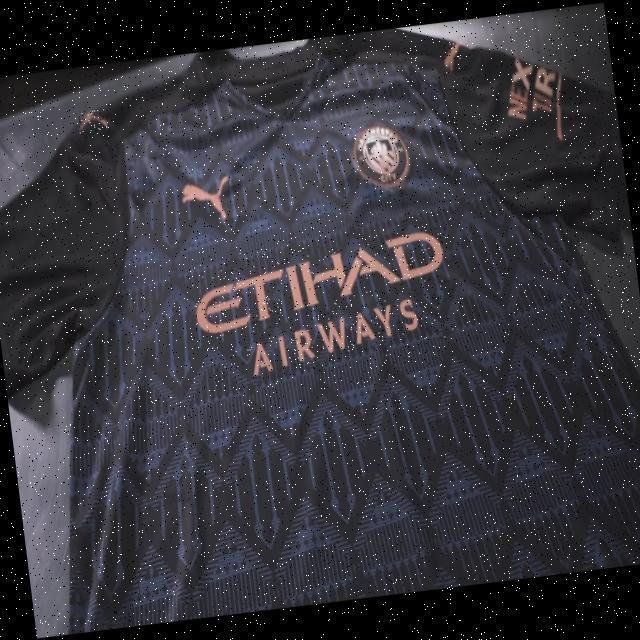Etihad Airways: (188, 228, 457, 384)
Puma: (178, 171, 234, 228), (438, 37, 465, 77), (73, 108, 108, 134)
